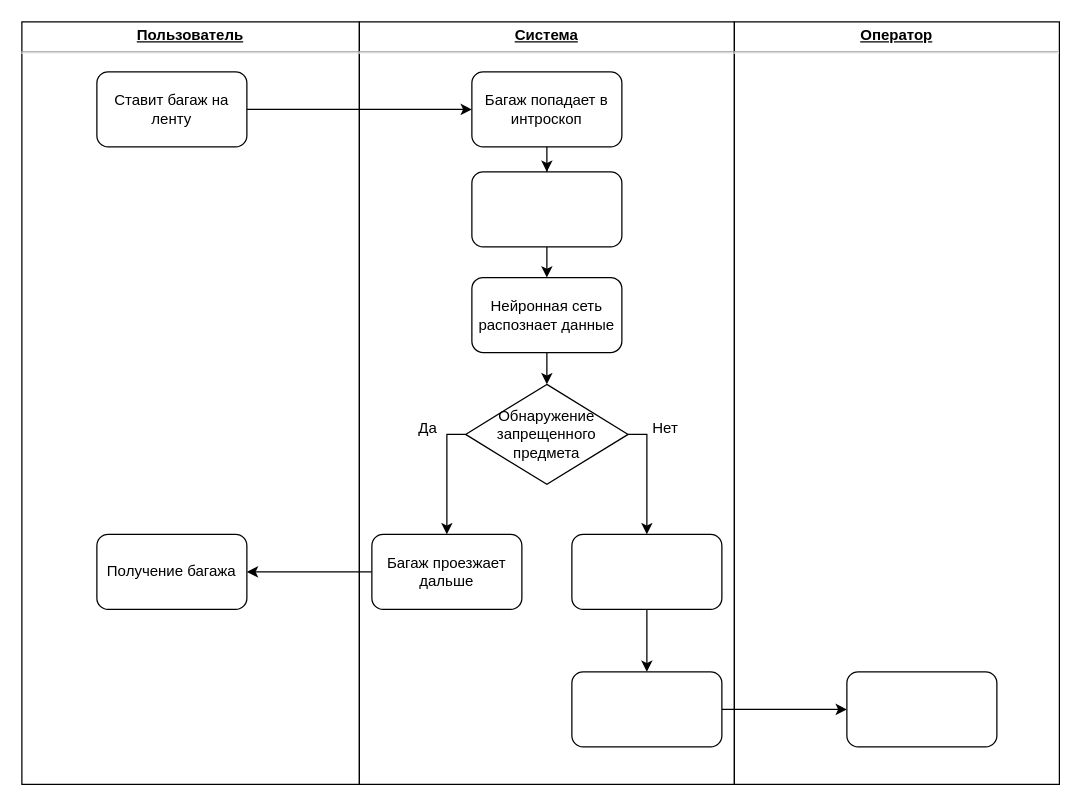
The diagram is 1081 pixels wide and 806 high, and some of its shapes have lost their labels. The shapes that lost their labels are listed below. From the top down, each one's centre as x and y in pixels, then its label:
point (546, 209): Интроскоп выводит рентген багажа
point (646, 571): Лента остановлена
point (646, 709): Подача сигнала оператору
point (921, 709): Просьба пройти на дополнительную проверку
